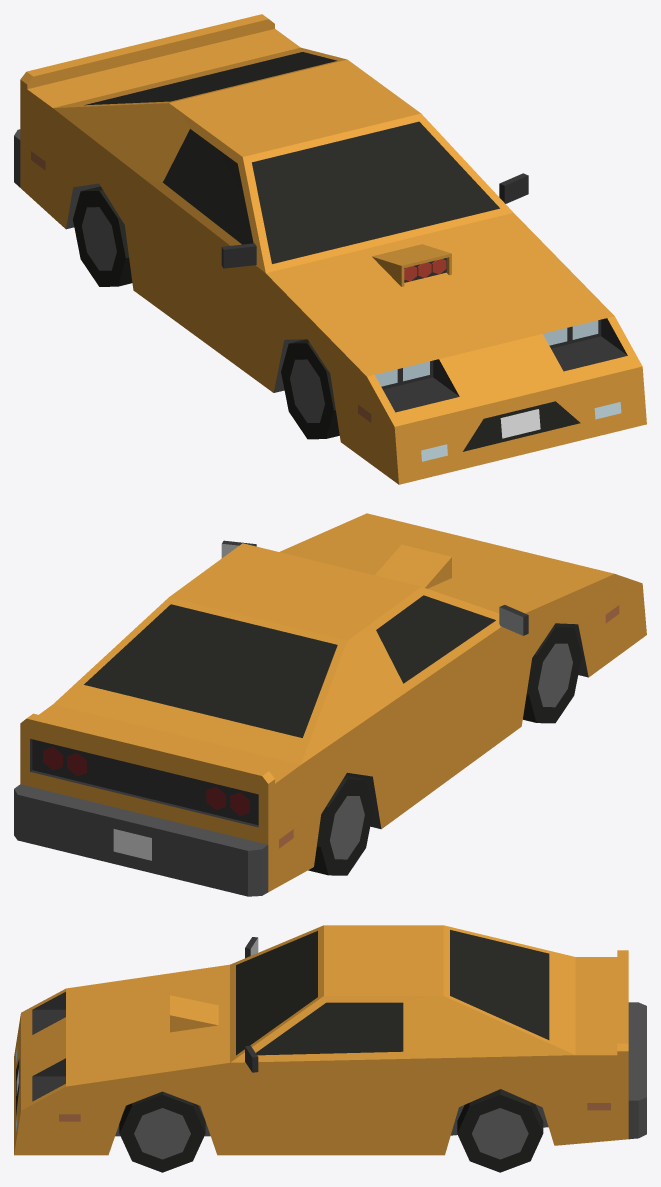
Rendered from Veh_Muscle_Car_03_Yellow.glb.
3 views of the same model, one above another, from view 1: azimuth 30°, elevation 25°; view 2: azimuth 150°, elevation 25°; view 3: azimuth 270°, elevation 25° (orthographic). The views are drawn at different scales.
Parts seen in each view (by area): view 1: Muscle_Car_03_Yellow, Wheel_RR, Wheel_FR; view 2: Muscle_Car_03_Yellow, Wheel_RR, Wheel_FR; view 3: Muscle_Car_03_Yellow, Wheel_RL, Wheel_FL.
Part boxes in pixels (box(x1,y1,x2,y2)): Muscle_Car_03_Yellow: box(14, 14, 646, 484); Wheel_RR: box(73, 186, 132, 286); Wheel_FR: box(281, 339, 339, 439); Muscle_Car_03_Yellow: box(14, 513, 646, 896); Wheel_RR: box(308, 775, 373, 875); Wheel_FR: box(523, 623, 581, 723); Muscle_Car_03_Yellow: box(14, 925, 646, 1155); Wheel_RL: box(457, 1089, 543, 1172); Wheel_FL: box(119, 1091, 205, 1172).
Bounding box in the file's own units: 1.24 × 0.7814 × 2.75.
1 material, 1 textured.
